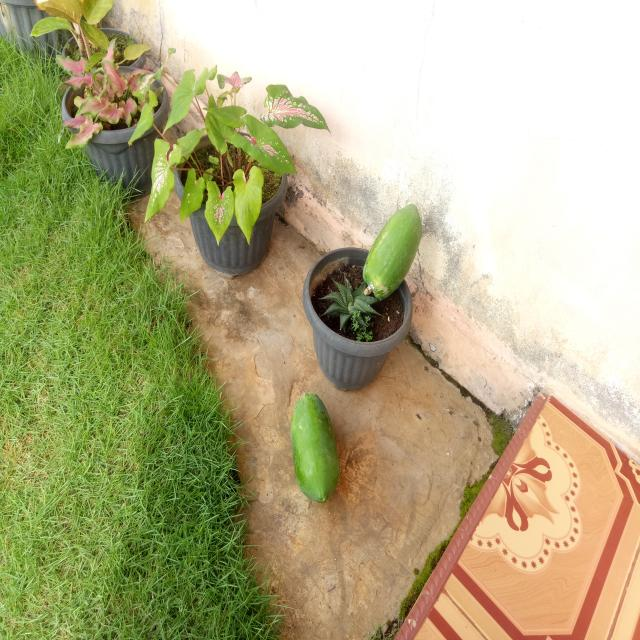Pepaya unrippen: (273, 383, 349, 513), (354, 195, 424, 301)
